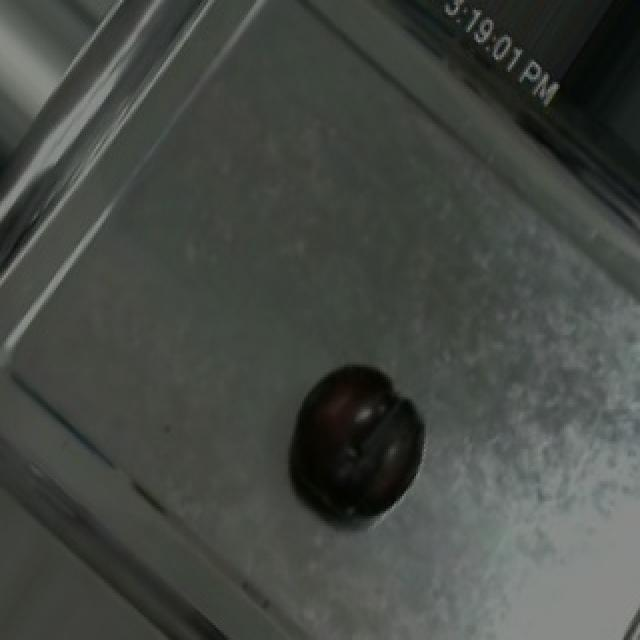Fruit: (272, 345, 430, 531)
